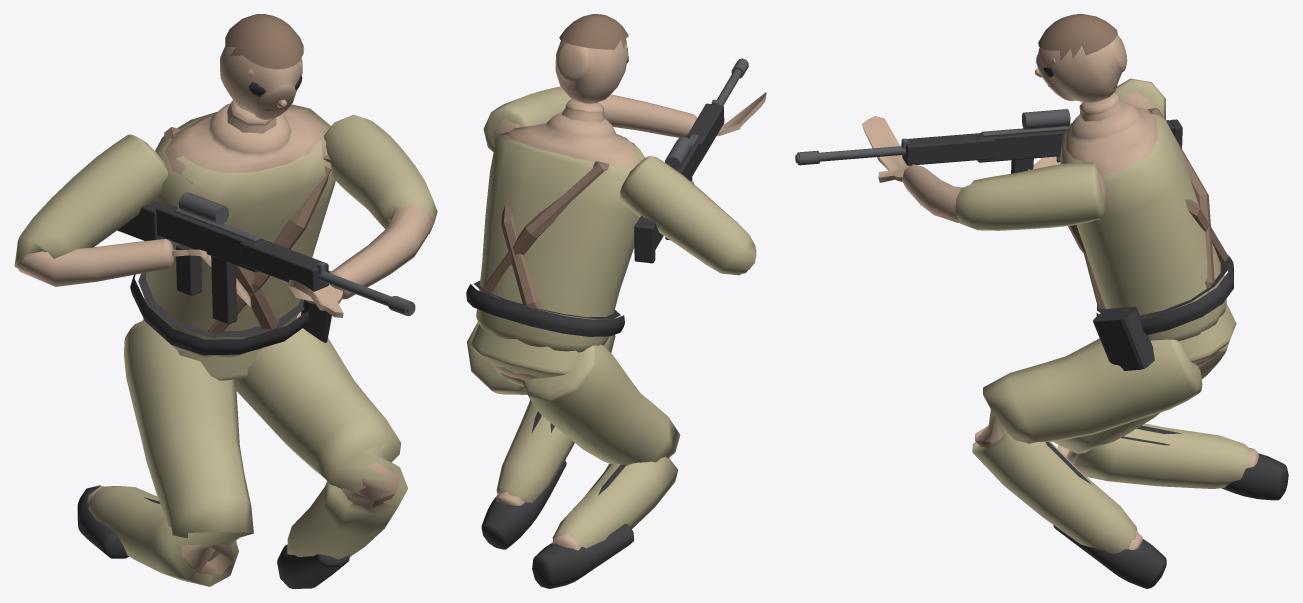
Rendered from tactical-shooter-hill-town-heavy-gunner-crouch-aim-96700a8c__27584.glb.
The picture shows the model from 3 angles, left to right: view 1: azimuth 30°, elevation 25°; view 2: azimuth 150°, elevation 25°; view 3: azimuth 270°, elevation 25°; orthographic projection. The views are drawn at different scales.
Parts seen in each view (by area): view 1: heavy-gunner-crouch-aim; view 2: heavy-gunner-crouch-aim; view 3: heavy-gunner-crouch-aim.
Boxes of the visible parts, x1,y1,x2,y2 form: heavy-gunner-crouch-aim: [14, 14, 437, 588]; heavy-gunner-crouch-aim: [466, 14, 766, 588]; heavy-gunner-crouch-aim: [795, 14, 1288, 588].
Bounding box in the file's own units: 0.8355 × 1.43 × 1.19.
